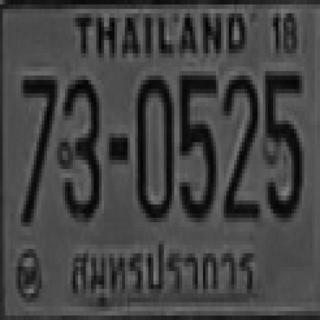N00: (135, 71, 172, 218)
N02: (221, 71, 258, 218)
N03: (57, 76, 99, 218)
N05: (178, 71, 215, 218), (263, 67, 299, 218)
N07: (20, 73, 56, 220)
P57: (68, 233, 261, 312)
